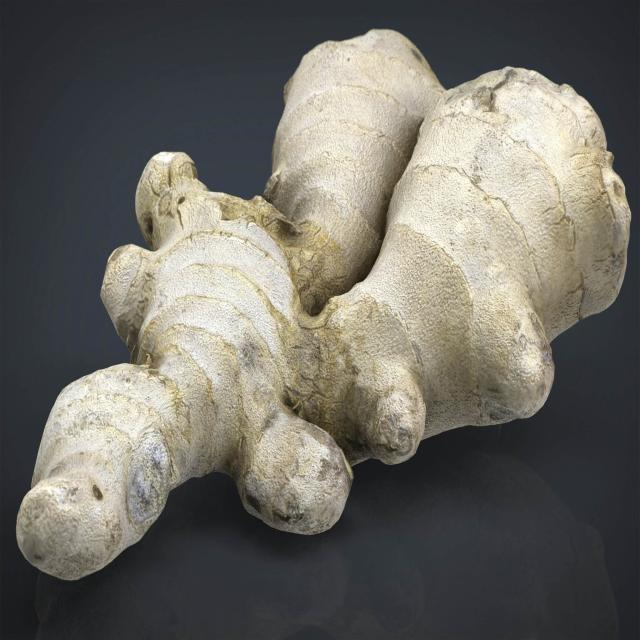ginger-root: (14, 26, 640, 602)
